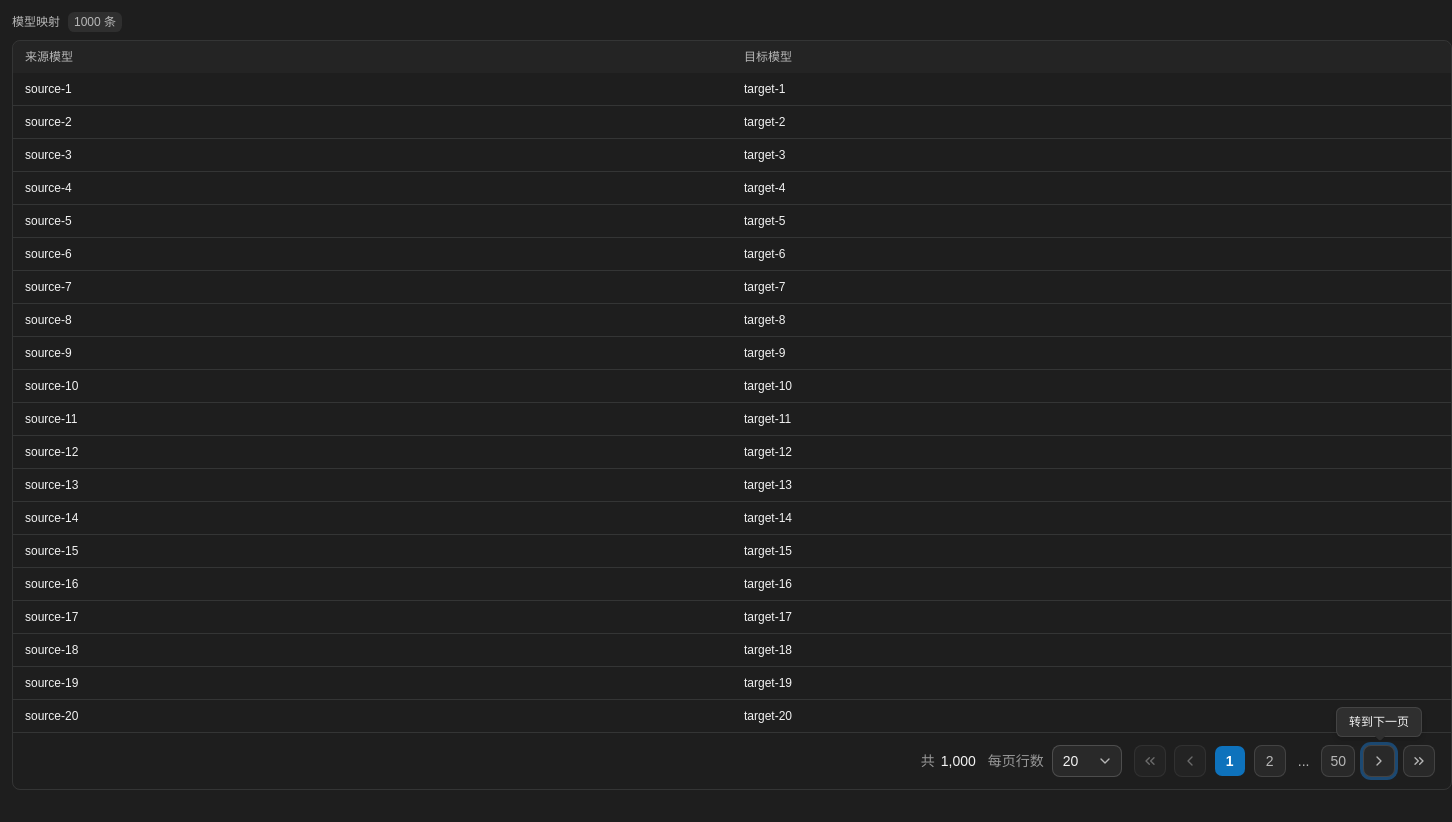
Scenario: 1000条映射默认只展示20条，键盘翻页可以读取剩余内容
The width and height of the screenshot is (1452, 822).
Expected: the cell "source-21" is not shown
Press Enter
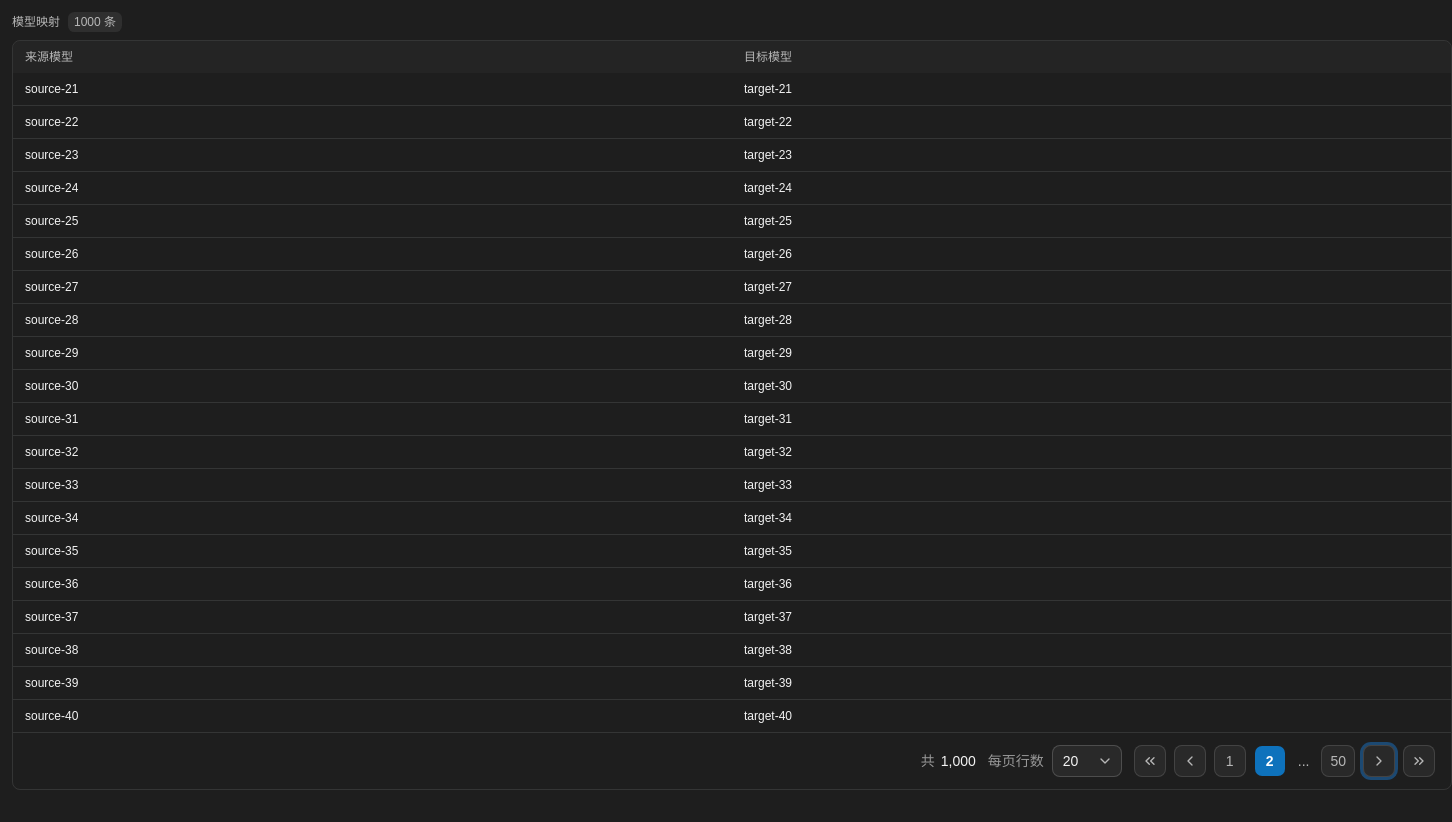
Now the row "source-21 target-21" is shown, box [13, 73, 1451, 106]
Click the button named "转到最后一页" at (1419, 761), box [1403, 745, 1435, 777]
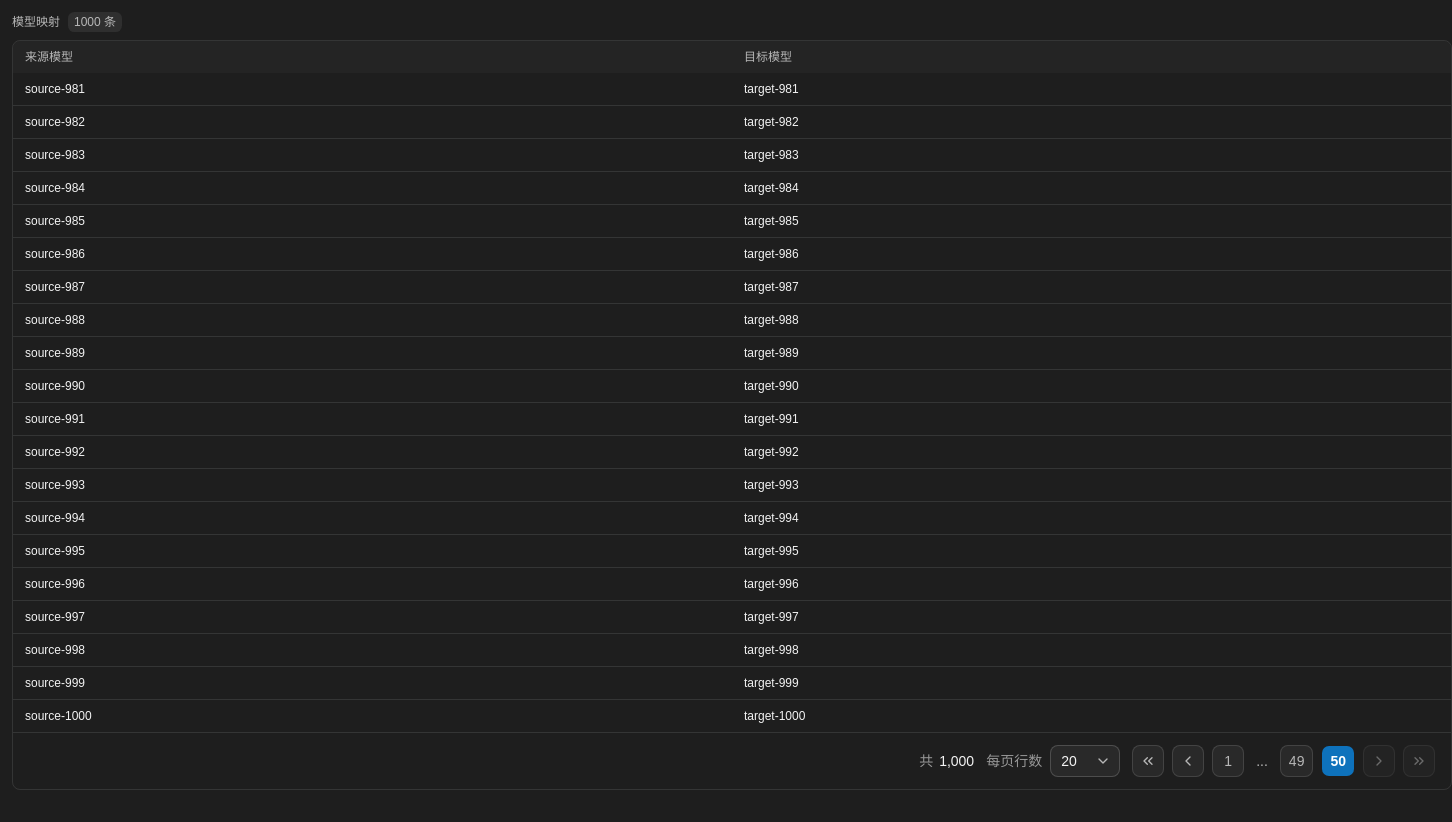
Expected: the button named "转到下一页" is disabled, [1363, 745, 1395, 777]
Now the row "source-1000 target-1000" is shown, box [13, 700, 1451, 732]
